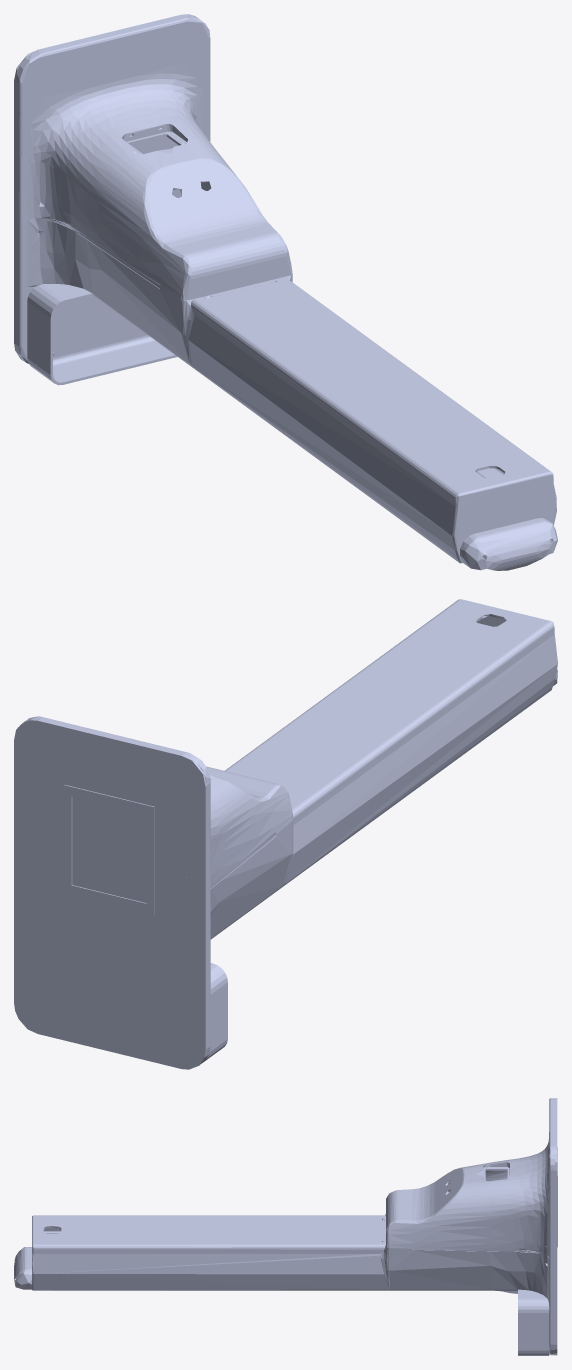
The model's file is dual_rm_75b_description_base_link_underpan_visuals_body_base_link_mesh.obj.
The picture shows the model from 3 angles, top to bottom: view 1: azimuth 30°, elevation 25°; view 2: azimuth 150°, elevation 25°; view 3: azimuth 270°, elevation 25°; orthographic projection. The views are drawn at different scales.
Size of the model in its own units: 0.4 by 0.625 by 1.49.
